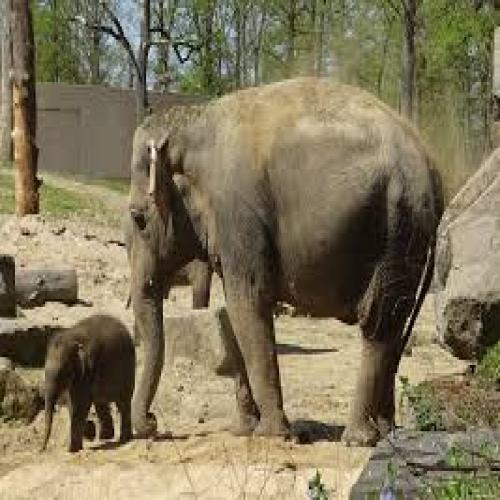asian_elephant-endangered: (129, 78, 445, 442), (39, 314, 134, 456)
